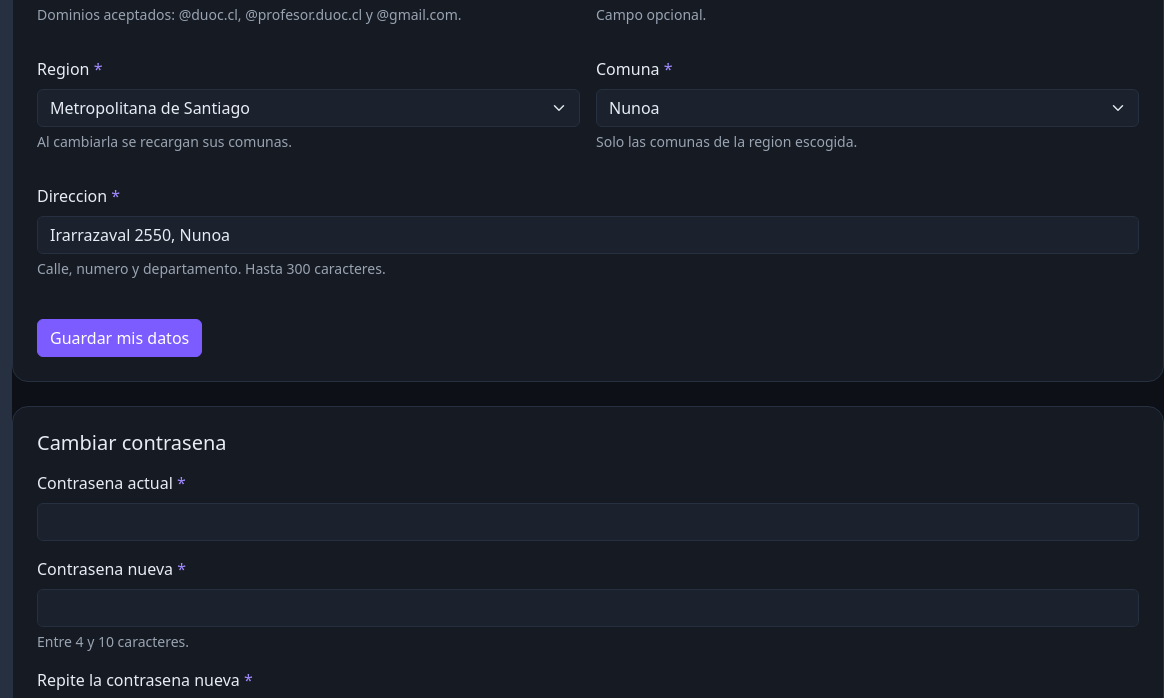
Perfil con una cuenta incompleta › sin fecha de nacimiento se guarda igual con la fecha vacia
(page scrolled)
Click the button "Guardar mis datos" at (120,338), box [37,319,202,357]
(page scrolled)
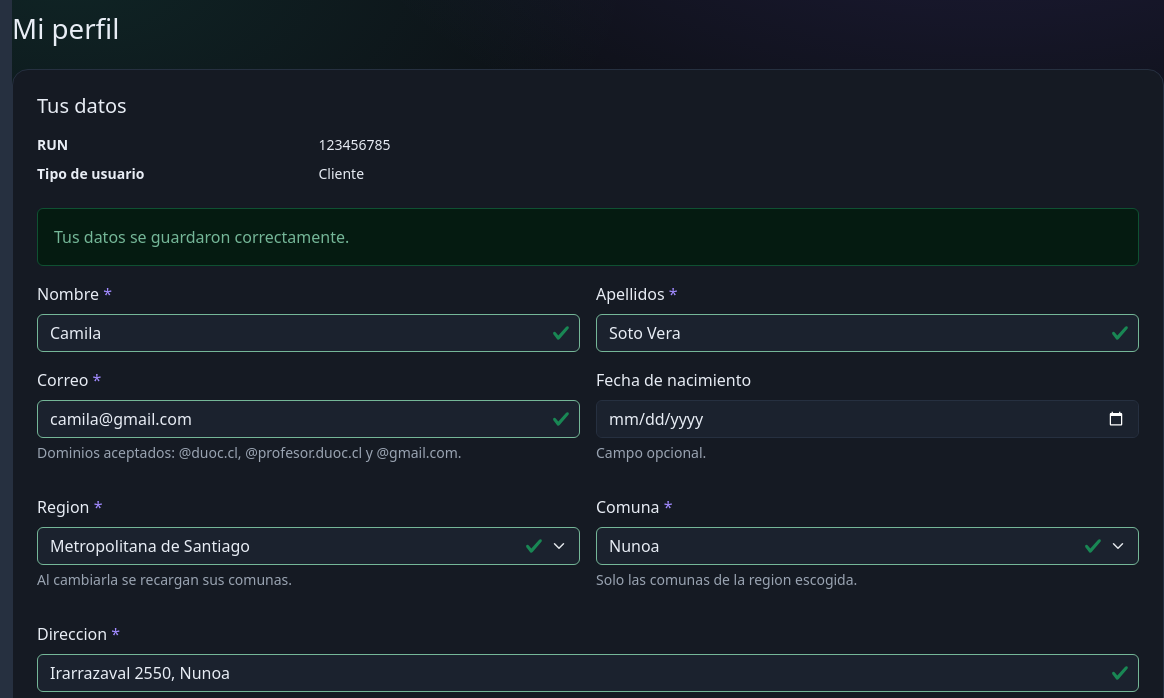
Check: the text "Tus datos se guardaron correctamente." is shown, box [37,208,1139,266]
